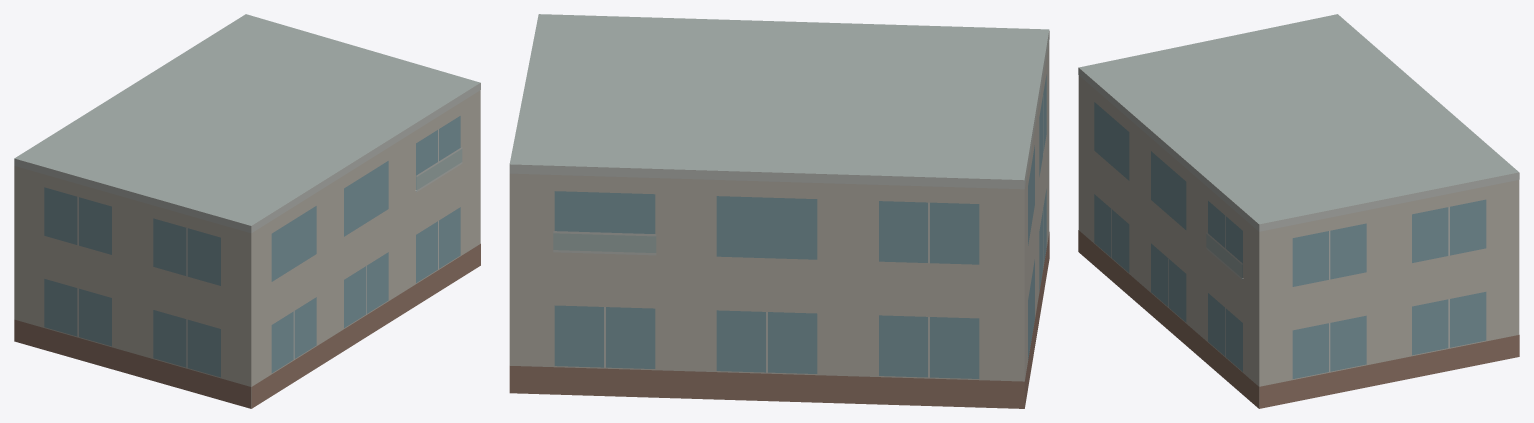
The model's file is survey-upis-32677898.glb.
The picture shows the model from 3 angles, left to right: view 1: azimuth 30°, elevation 25°; view 2: azimuth 150°, elevation 25°; view 3: azimuth 270°, elevation 25°; orthographic projection. The views are drawn at different scales.
Parts seen in each view (by area): view 1: survey-upis-32677898.tmp; view 2: survey-upis-32677898.tmp; view 3: survey-upis-32677898.tmp.
Boxes of the visible parts, x1,y1,x2,y2 form: survey-upis-32677898.tmp: [14, 14, 480, 408]; survey-upis-32677898.tmp: [509, 14, 1049, 408]; survey-upis-32677898.tmp: [1078, 14, 1519, 408].
Bounding box in the file's own units: 14.93 × 6.1 × 13.23.
